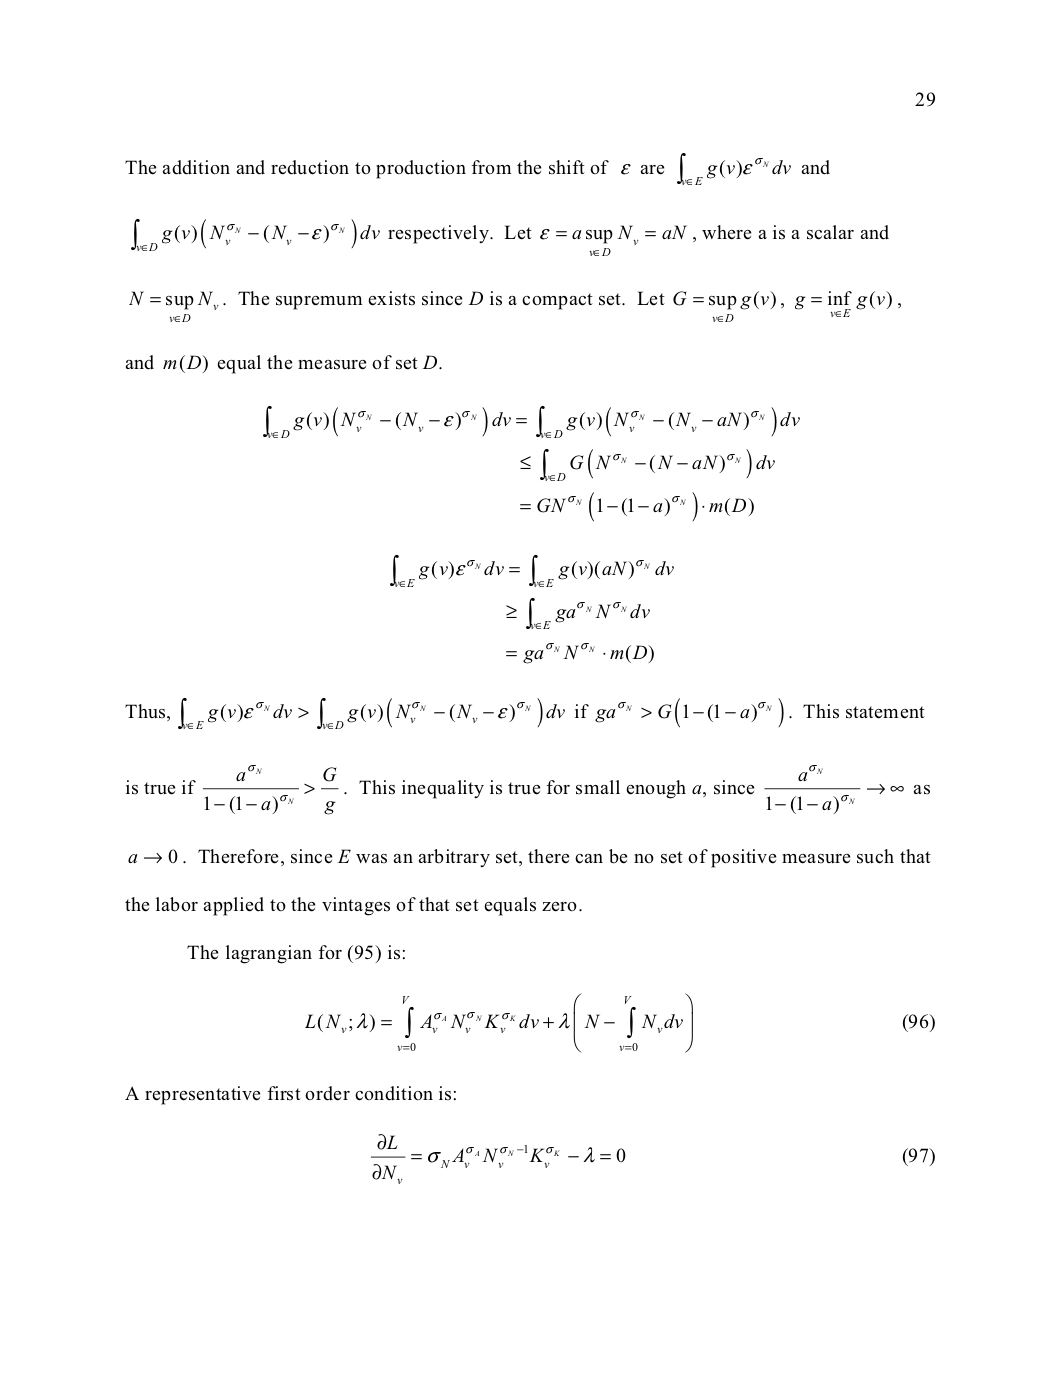formula: (305, 992, 934, 1053), (371, 1132, 934, 1184), (263, 405, 799, 438), (390, 553, 673, 587), (520, 448, 773, 481), (520, 491, 753, 522), (506, 596, 649, 629), (506, 642, 653, 664)
